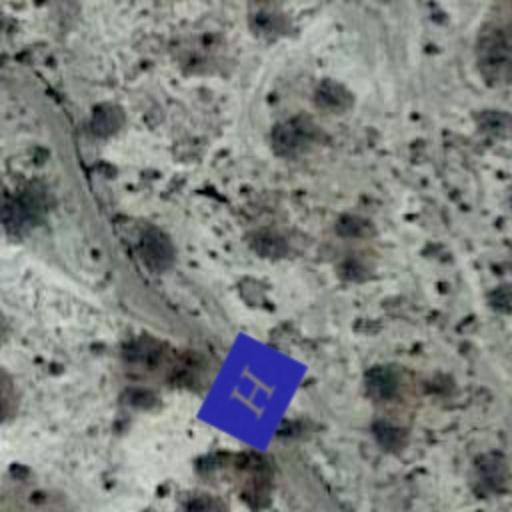rectangle: (186, 326, 318, 458)
